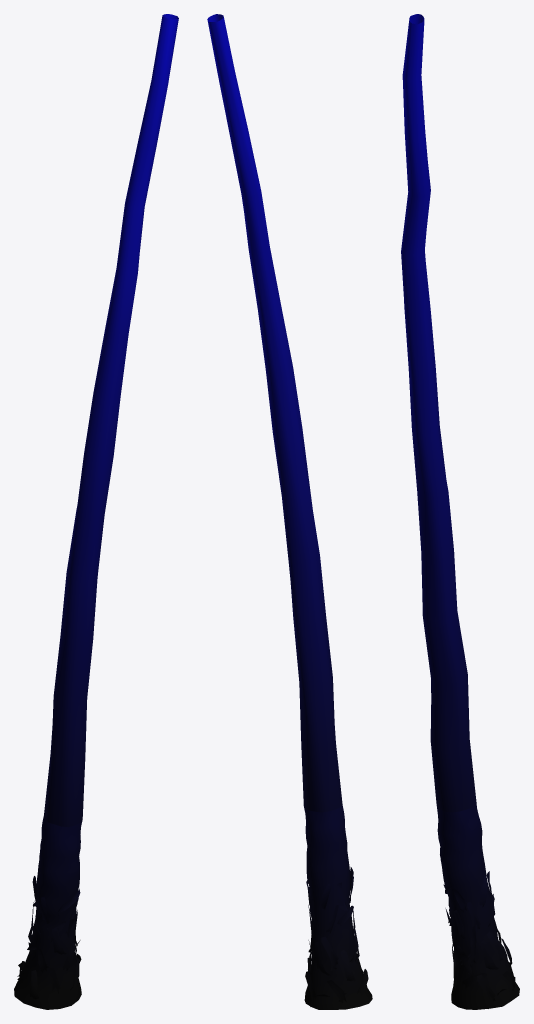
The model's file is tree2.obj.
3 views of the same model, side by side, from view 1: azimuth 30°, elevation 25°; view 2: azimuth 210°, elevation 25°; view 3: azimuth 270°, elevation 25° (orthographic). The views are drawn at different scales.
Parts seen in each view (by area): view 1: Palm_Tree_M_01_T.001; view 2: Palm_Tree_M_01_T.001; view 3: Palm_Tree_M_01_T.001.
Part boxes in pixels (box(x1,y1,x2,y2)): Palm_Tree_M_01_T.001: box(14, 14, 178, 1009); Palm_Tree_M_01_T.001: box(207, 14, 372, 1009); Palm_Tree_M_01_T.001: box(401, 14, 519, 1009).
Size of the model in its own units: 1.64 by 12.16 by 1.28.
